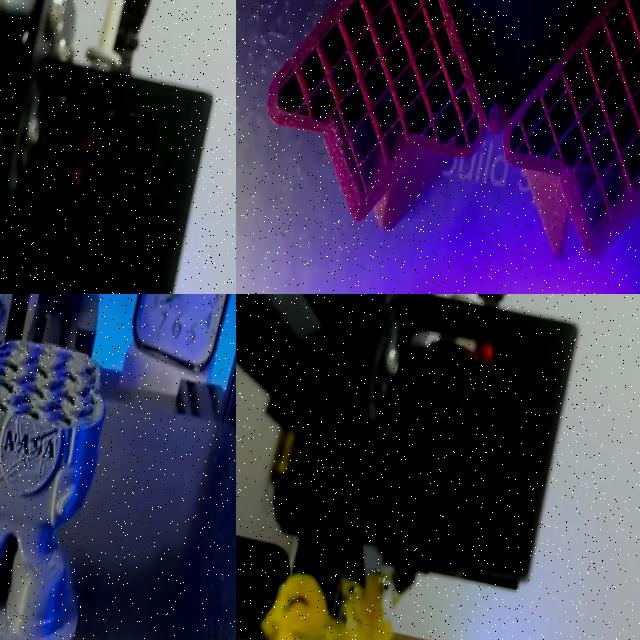spaghetti: (250, 546, 418, 640)
